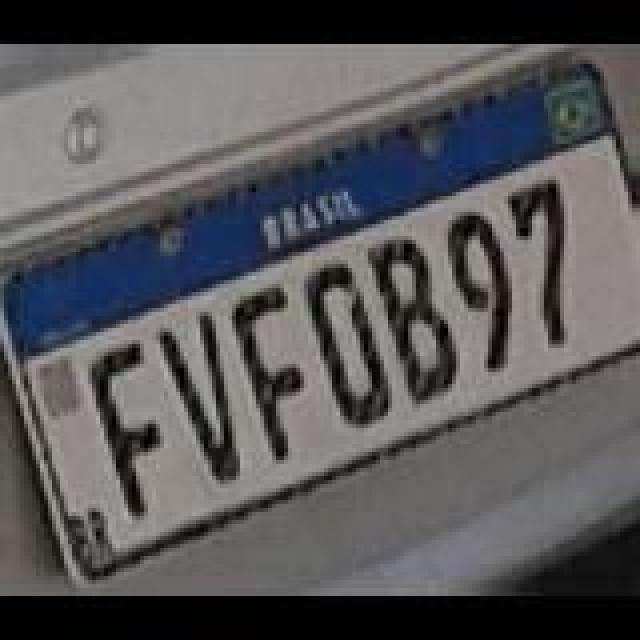7: (506, 178, 566, 350)
9: (452, 206, 516, 370)
B: (370, 234, 462, 406)
D: (300, 254, 396, 434)
F: (90, 340, 166, 524), (236, 280, 308, 464)
V: (154, 310, 246, 490)
